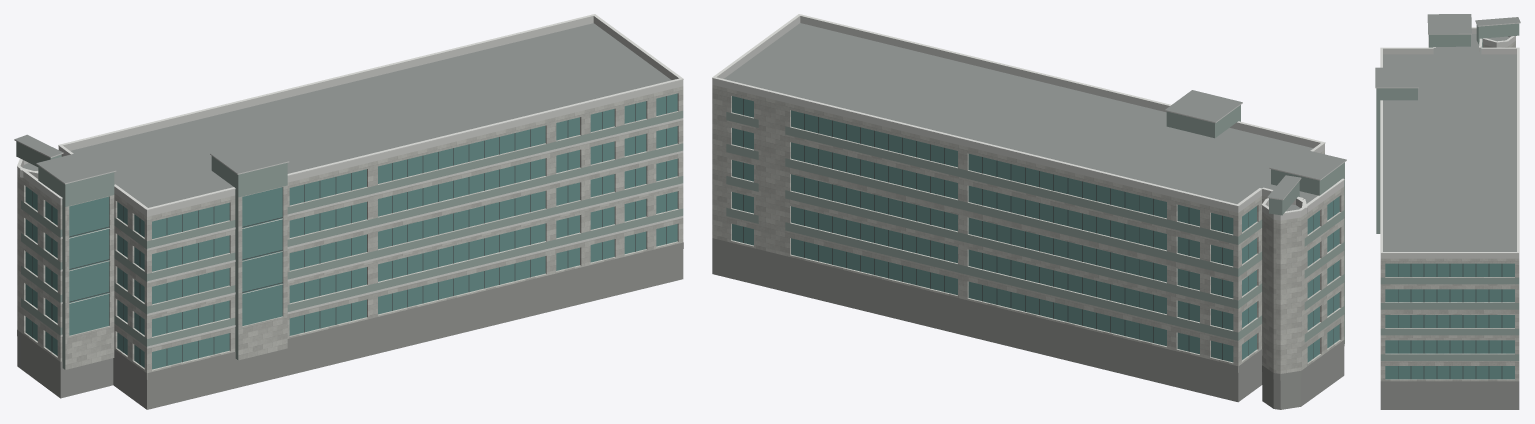
3 renders of one model, left to right at view 1: azimuth 30°, elevation 25°; view 2: azimuth 150°, elevation 25°; view 3: azimuth 270°, elevation 25°, orthographic. The views are drawn at different scales.
Visible parts, largest first — view 1: bionanoRes__glass, bionanoRes__roof, bionanoRes__wall, bionanoRes__base, bionanoRes__wall2, bionanoRes__trim, bionanoRes__parapet, bionanoRes__frame; view 2: bionanoRes__wall, bionanoRes__roof, bionanoRes__glass, bionanoRes__base, bionanoRes__wall2, bionanoRes__parapet, bionanoRes__trim, bionanoRes__frame; view 3: bionanoRes__roof, bionanoRes__glass, bionanoRes__wall2, bionanoRes__wall, bionanoRes__base, bionanoRes__trim, bionanoRes__parapet, bionanoRes__frame.
Part boxes in pixels (left/top/right/bottom): bionanoRes__glass: left=25, top=93, right=677, bottom=369; bionanoRes__roof: left=14, top=23, right=671, bottom=207; bionanoRes__wall: left=17, top=86, right=683, bottom=379; bionanoRes__base: left=17, top=242, right=683, bottom=409; bionanoRes__wall2: left=16, top=111, right=683, bottom=369; bionanoRes__trim: left=14, top=14, right=683, bottom=348; bionanoRes__parapet: left=17, top=16, right=683, bottom=216; bionanoRes__frame: left=32, top=96, right=666, bottom=365; bionanoRes__wall: left=712, top=85, right=1344, bottom=380; bionanoRes__roof: left=724, top=23, right=1346, bottom=211; bionanoRes__glass: left=732, top=96, right=1339, bottom=362; bionanoRes__base: left=712, top=238, right=1344, bottom=409; bionanoRes__wall2: left=726, top=105, right=1344, bottom=343; bionanoRes__parapet: left=712, top=16, right=1344, bottom=220; bionanoRes__trim: left=712, top=14, right=1346, bottom=314; bionanoRes__frame: left=743, top=98, right=1333, bottom=359; bionanoRes__roof: left=1375, top=14, right=1520, bottom=251; bionanoRes__glass: left=1385, top=263, right=1514, bottom=379; bionanoRes__wall2: left=1376, top=23, right=1519, bottom=360; bionanoRes__wall: left=1380, top=37, right=1519, bottom=381; bionanoRes__base: left=1380, top=381, right=1519, bottom=409; bionanoRes__trim: left=1375, top=21, right=1520, bottom=253; bionanoRes__parapet: left=1380, top=28, right=1519, bottom=258; bionanoRes__frame: left=1398, top=264, right=1502, bottom=378.
Size of the model in its own units: 72.13 by 25.35 by 19.61.
8 materials, 1 textured.
